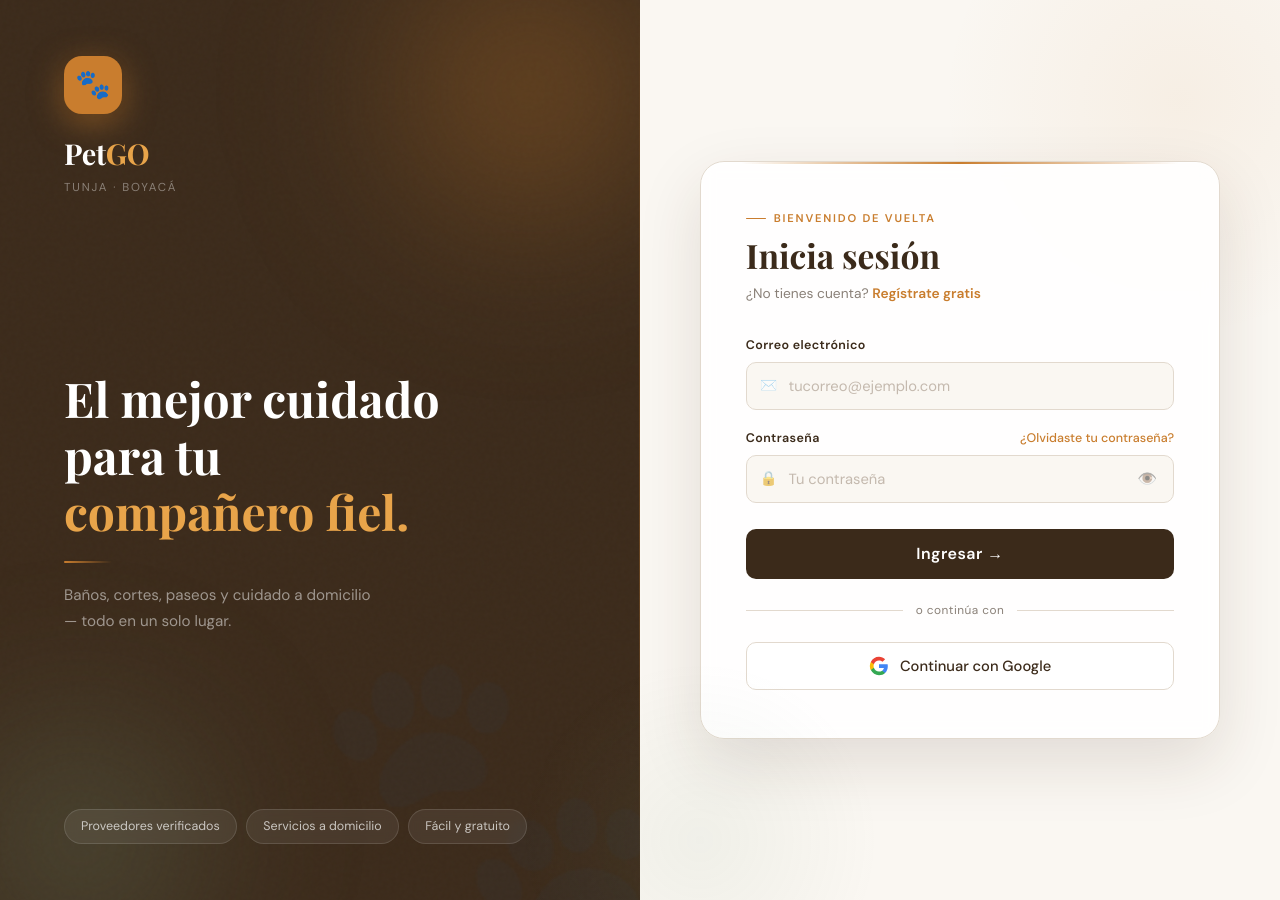
it: Login - validaciones › muestra error si contraseña está vacía
The width and height of the screenshot is (1280, 900).
Type "test@test.com" into the field with placeholder "tucorreo@ejemplo.com" at {"x": 960, "y": 386}, box [746,362,1174,410]
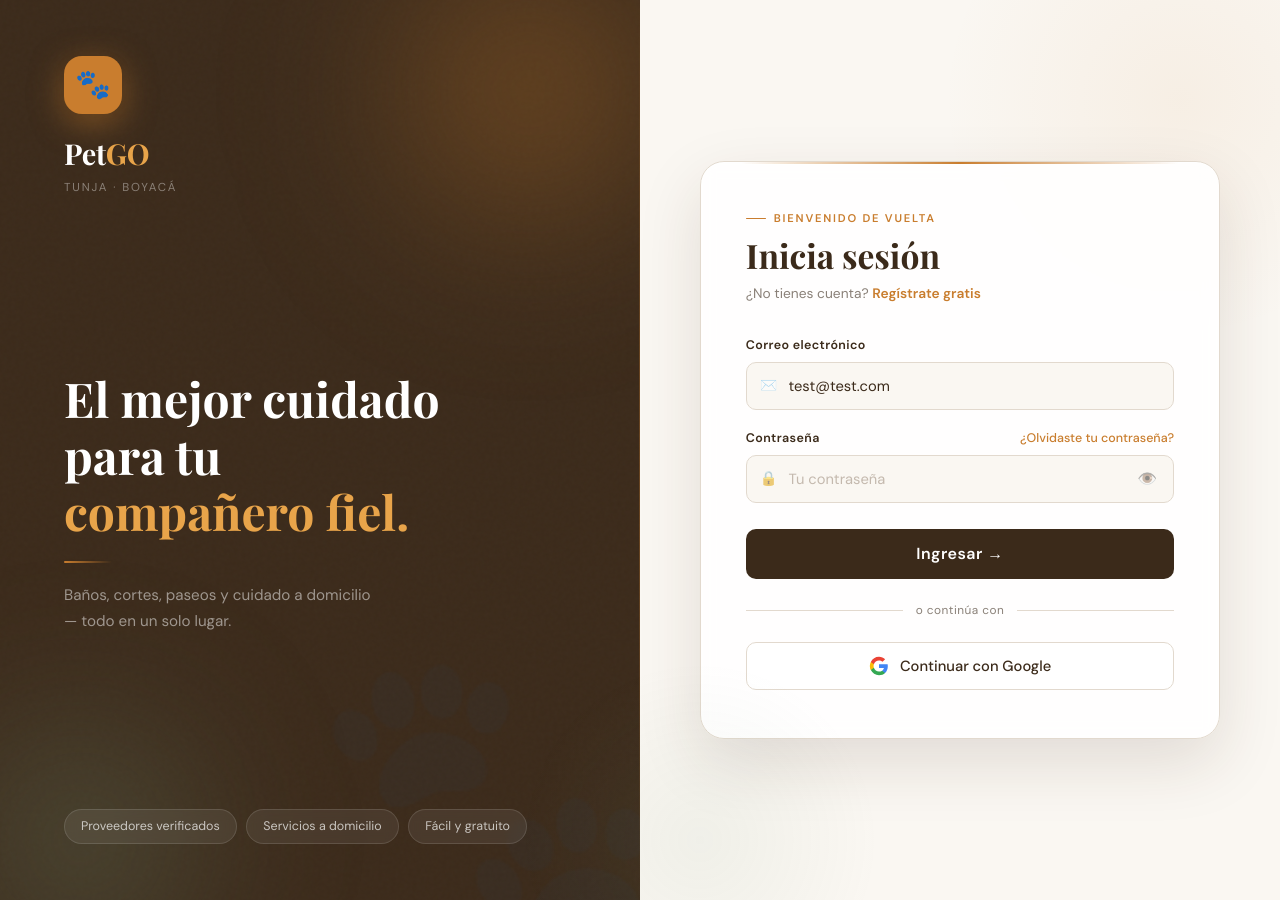
Click the button "Ingresar →" at {"x": 960, "y": 554}, box [746,529,1174,579]
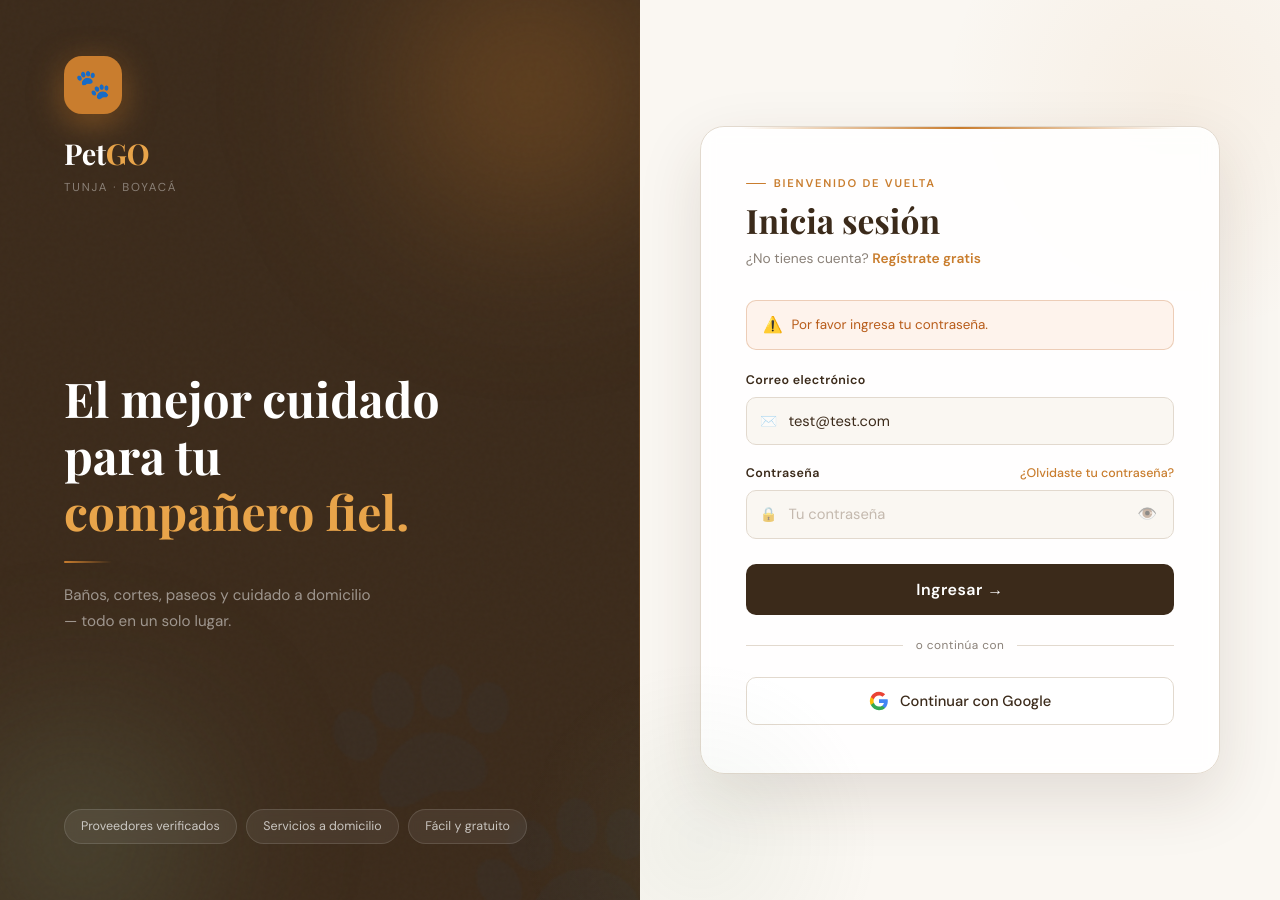
Expected: the text "Por favor ingresa tu contraseña." is shown, [792,316,988,333]
